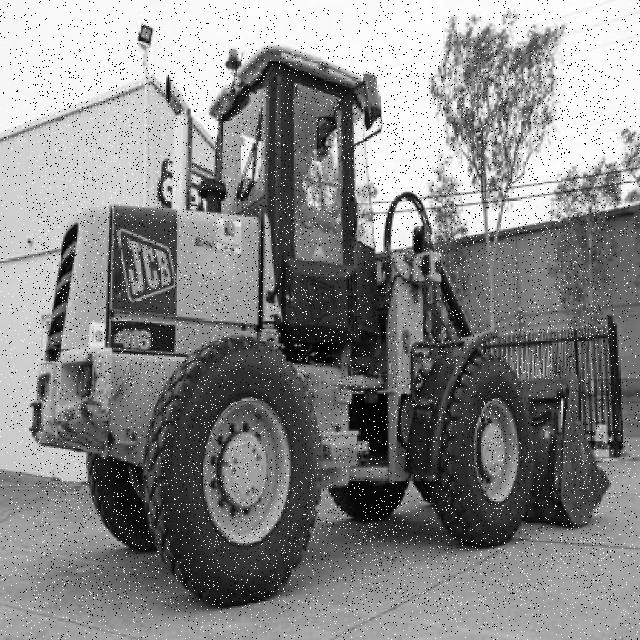Construction Equipment: (32, 46, 614, 611)
